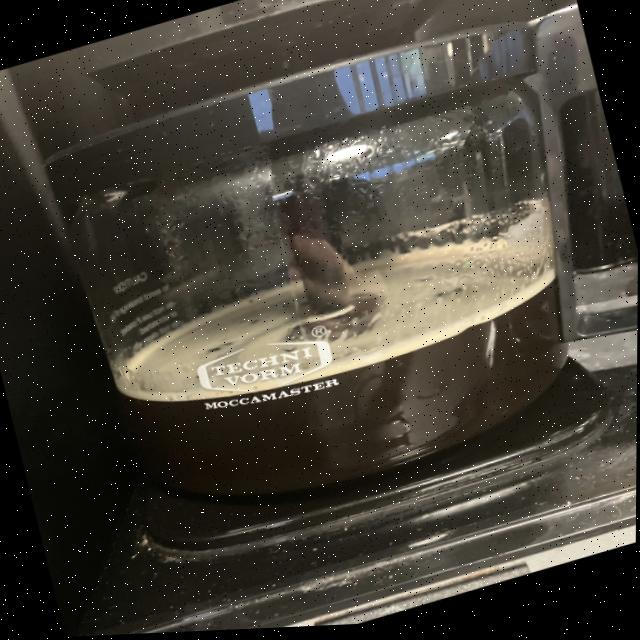coffee: (23, 0, 623, 564)
